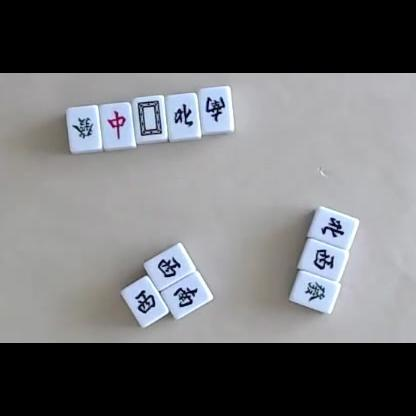2z: (173, 286, 198, 308), (205, 96, 226, 122)
3z: (157, 256, 182, 278), (135, 289, 156, 315), (313, 249, 335, 271)
4z: (321, 216, 346, 239), (174, 103, 194, 128)
5z: (138, 100, 162, 136)
6z: (72, 116, 95, 140), (304, 280, 326, 304)
7z: (107, 109, 126, 141)
